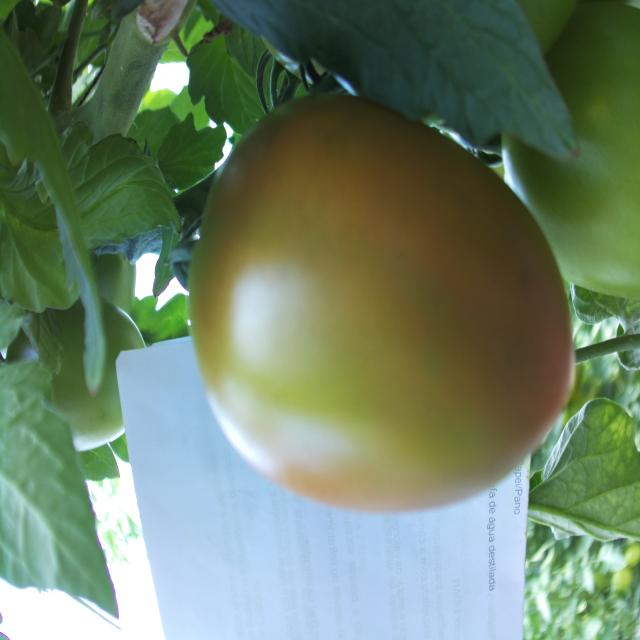yesil: (170, 112, 595, 505)
